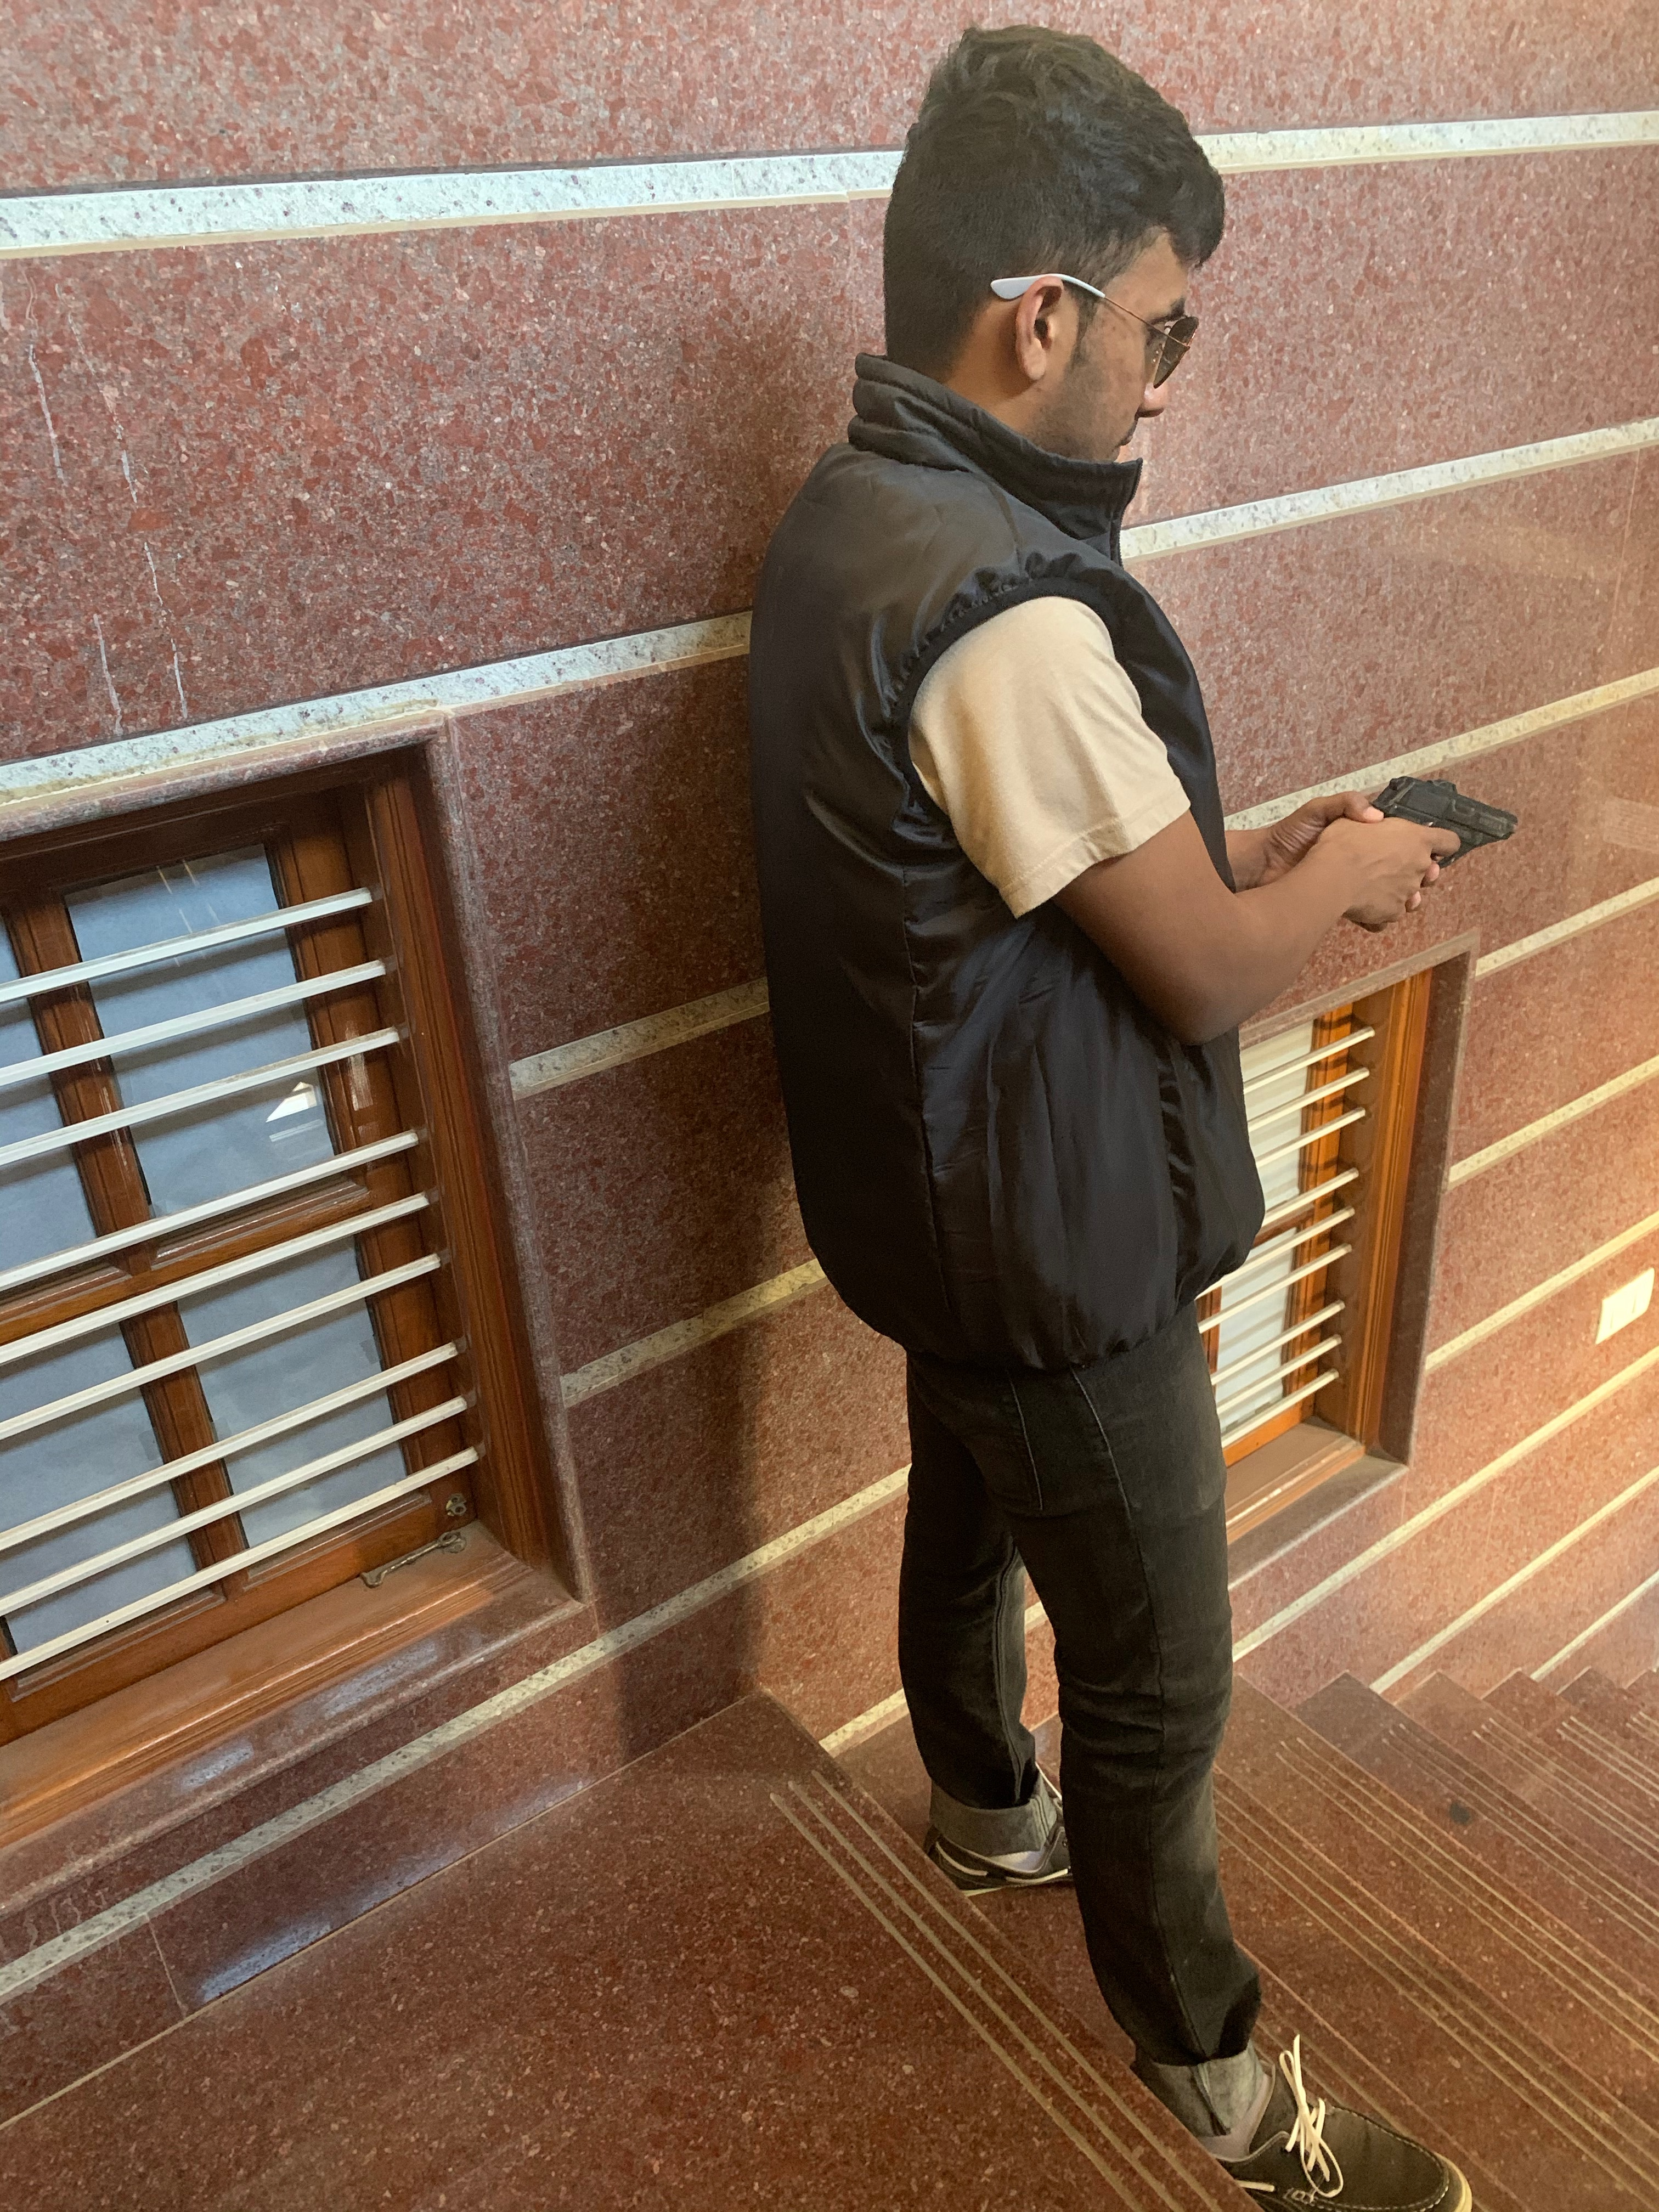gun: (1364, 768, 1516, 935)
